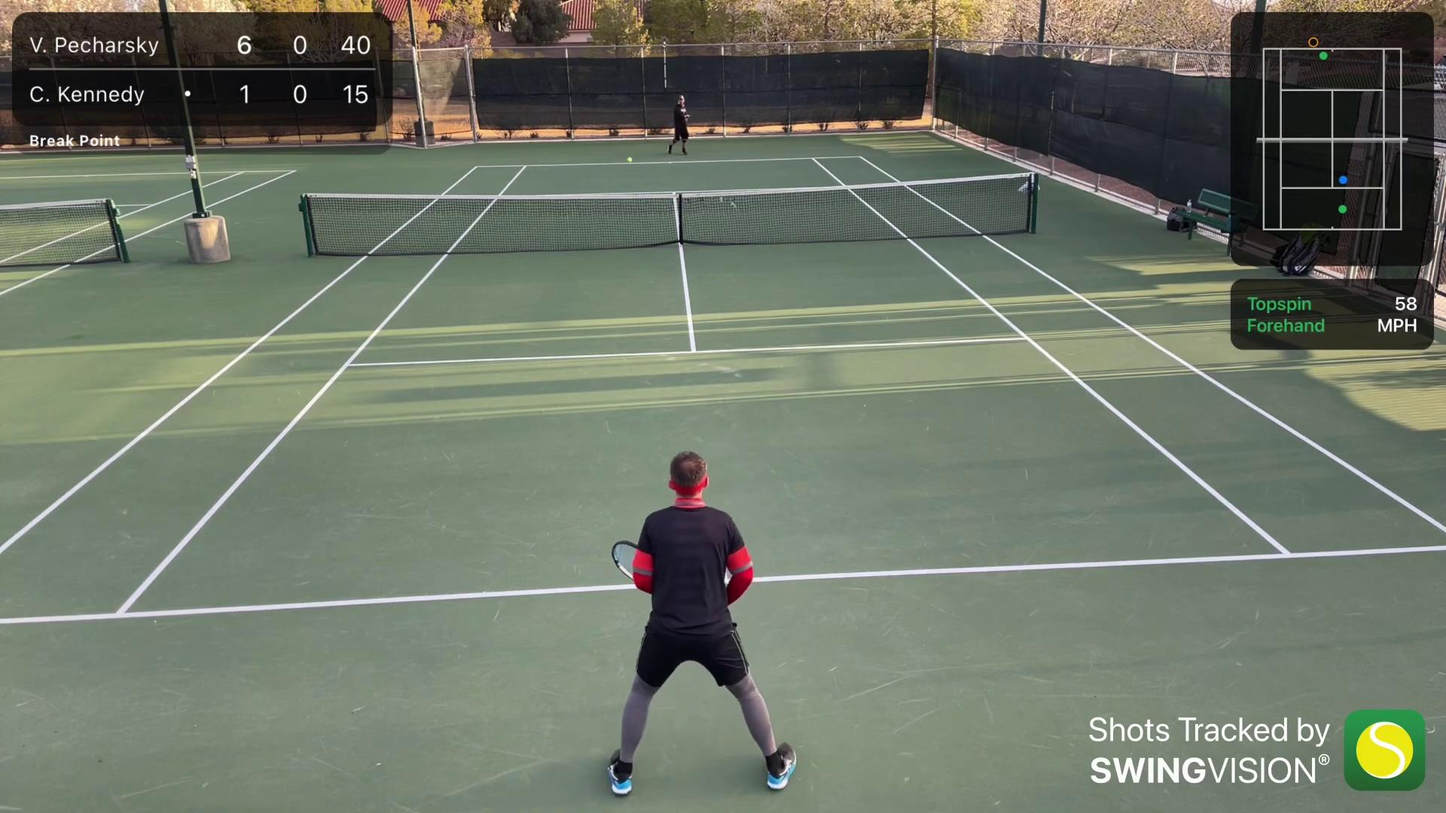ball: (626, 157, 634, 164)
